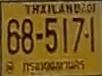1: (62, 17, 68, 55), (90, 16, 95, 54)
5: (45, 17, 57, 52)
6: (8, 18, 20, 53)
7: (72, 17, 84, 50)
8: (21, 18, 34, 53)
BKK: (20, 58, 88, 76)
